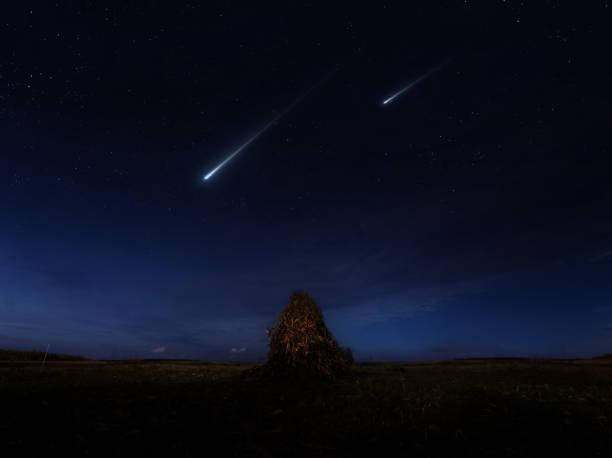meteor: (195, 164, 214, 187), (379, 94, 393, 110)
